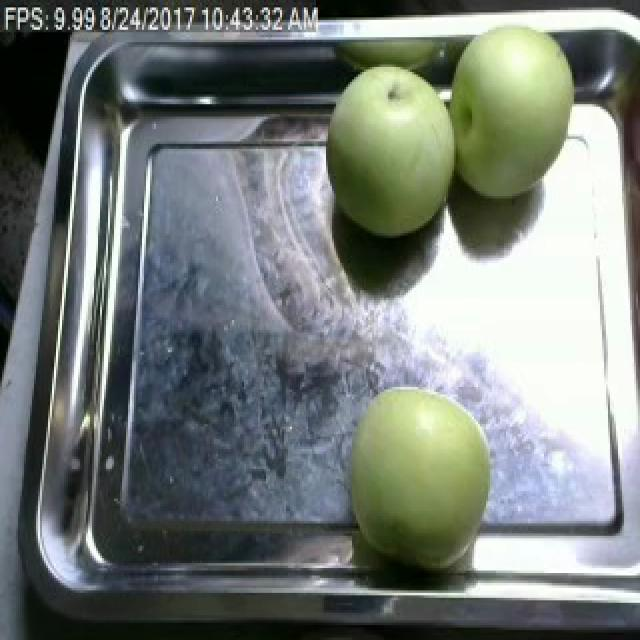50-_ripeness: (348, 381, 491, 574), (323, 64, 454, 239), (443, 26, 572, 196)
